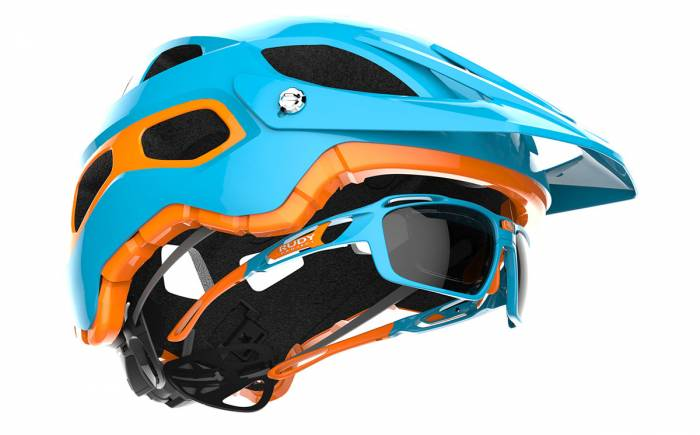with_helmet: (64, 12, 641, 419)
